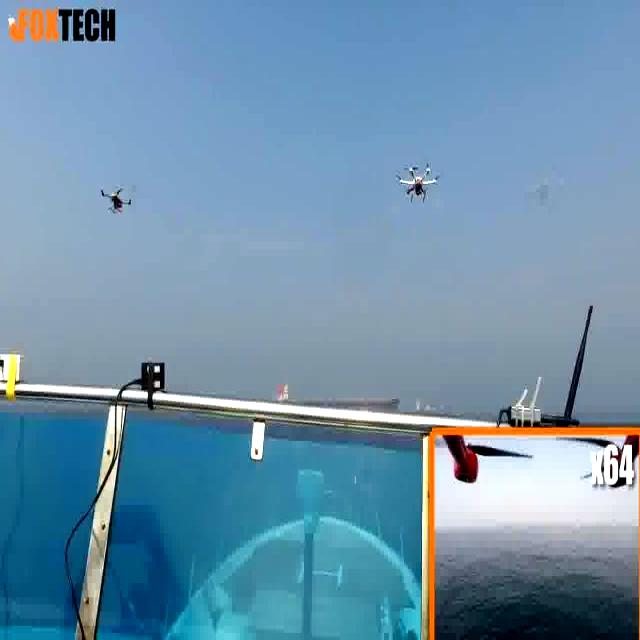drone: (390, 161, 442, 204), (99, 181, 133, 218)
